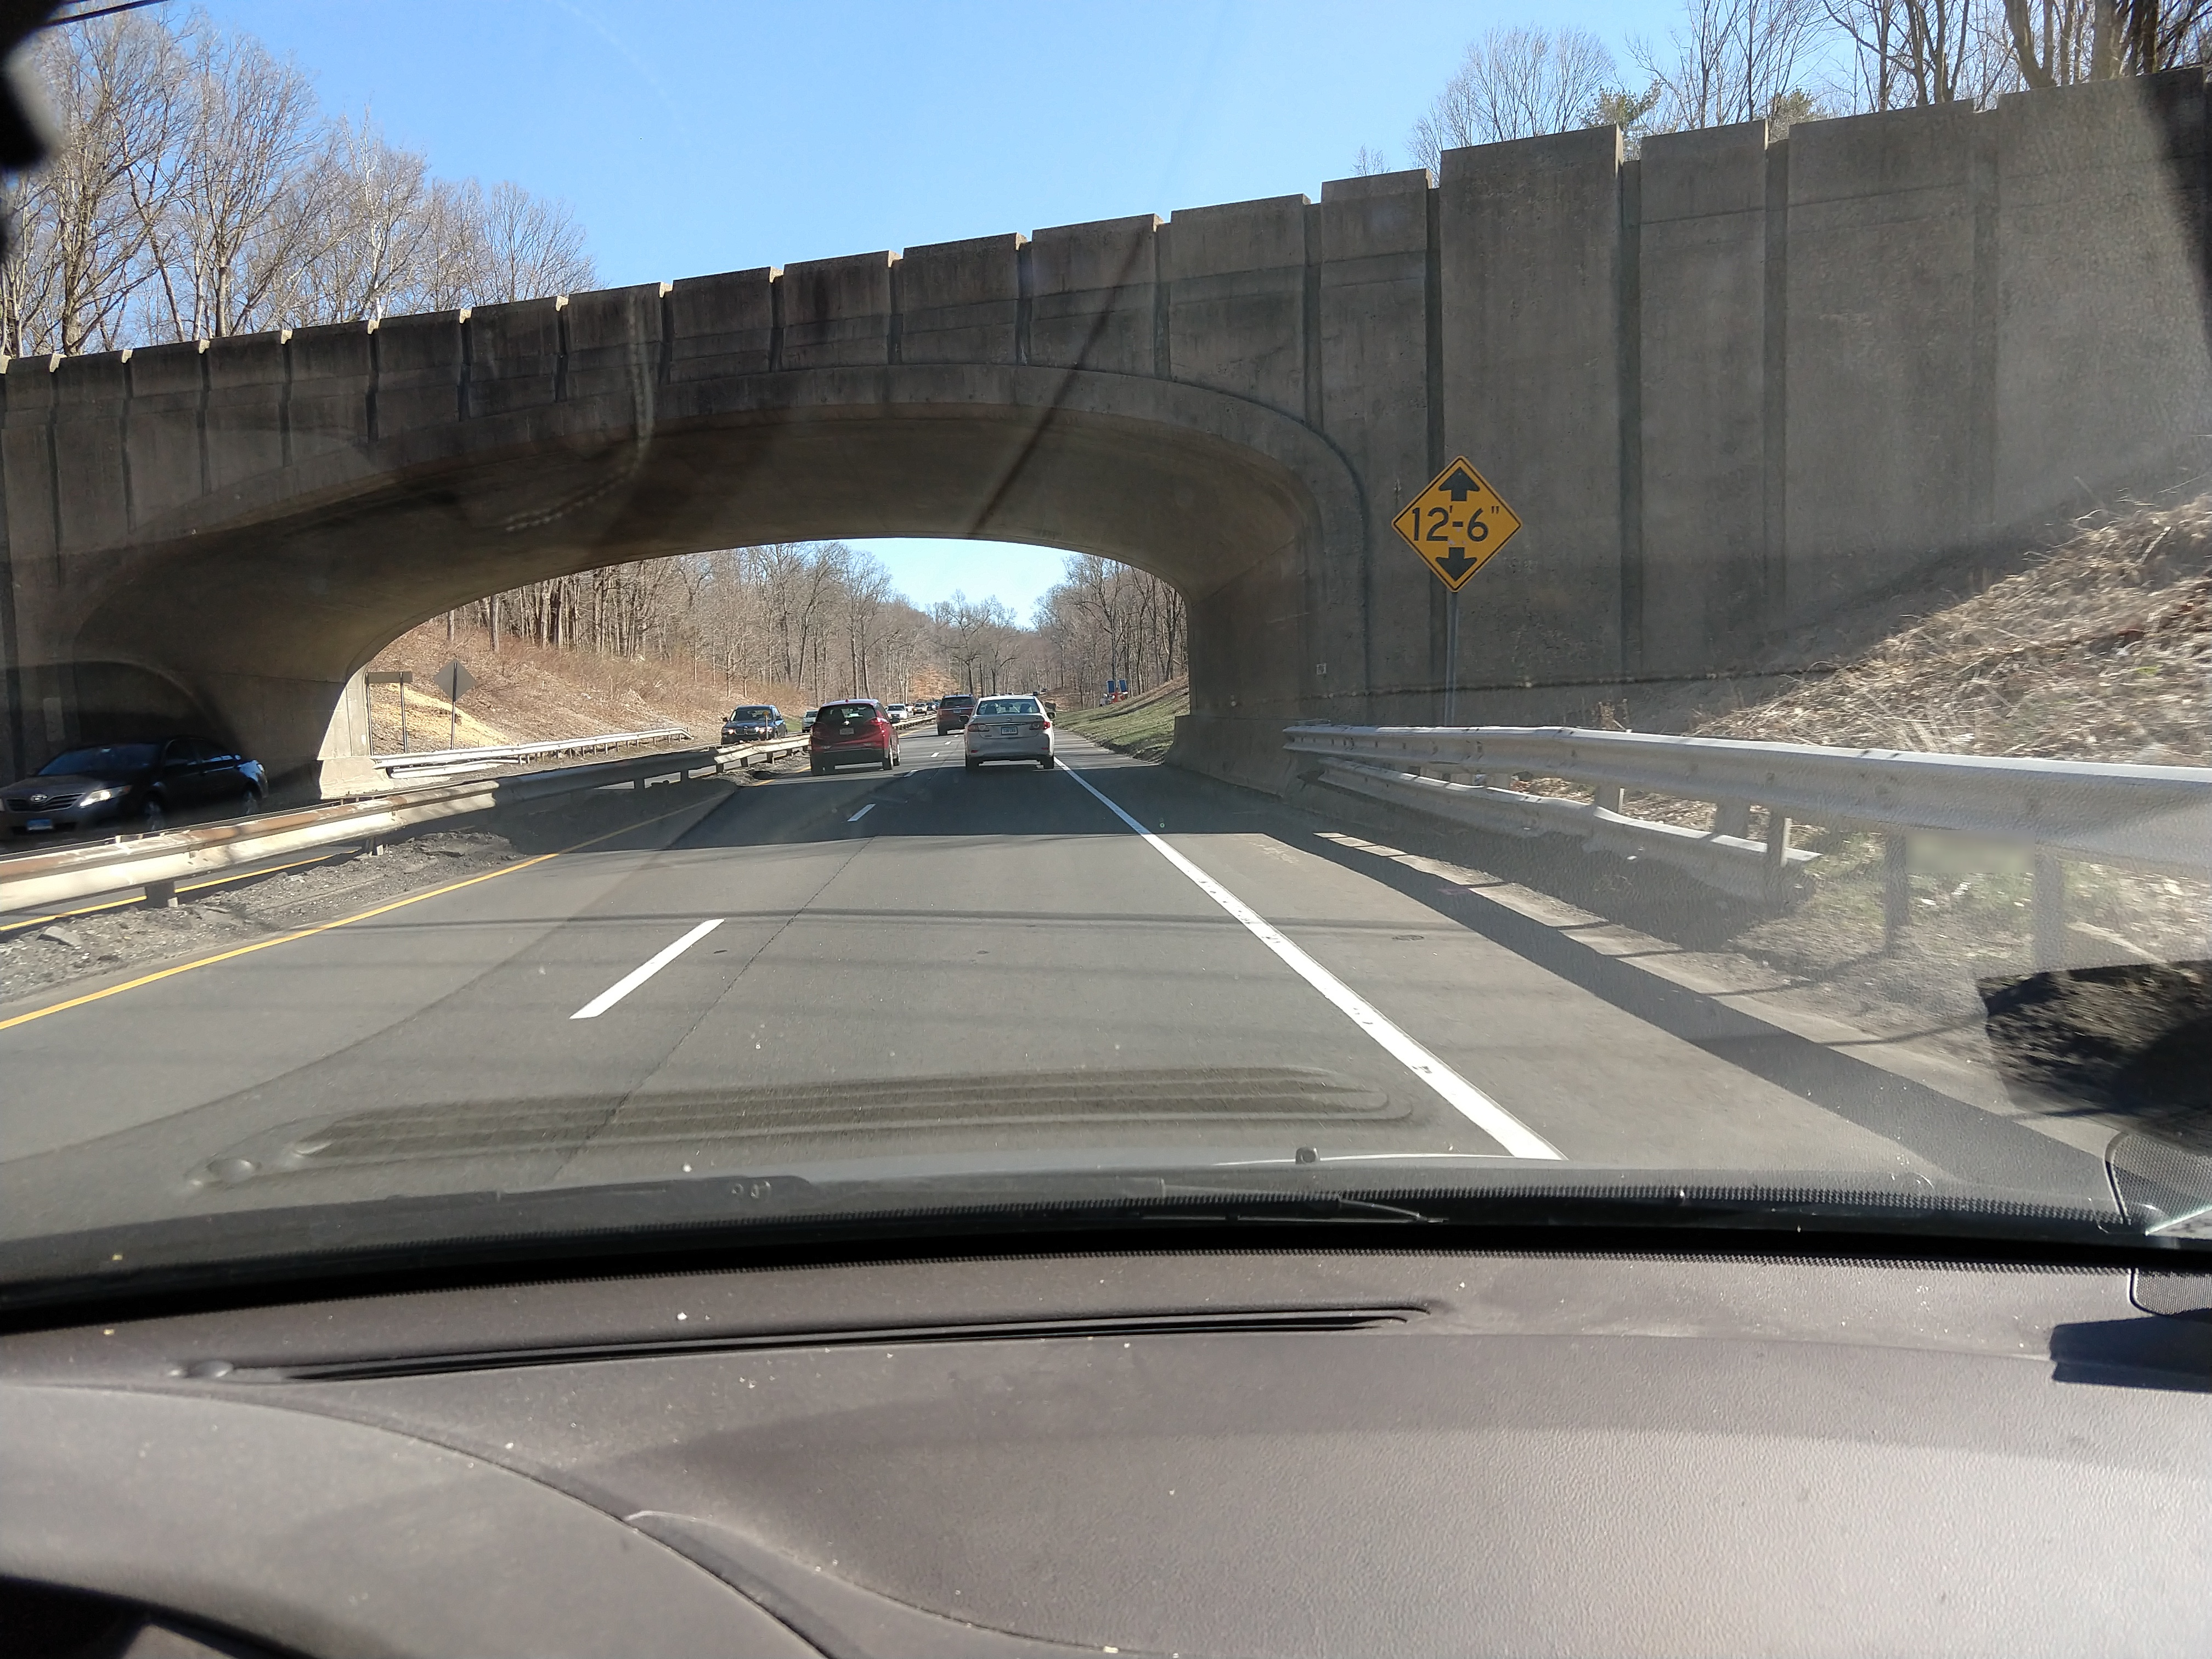low-clearance-sign: (1390, 455, 1522, 592)
